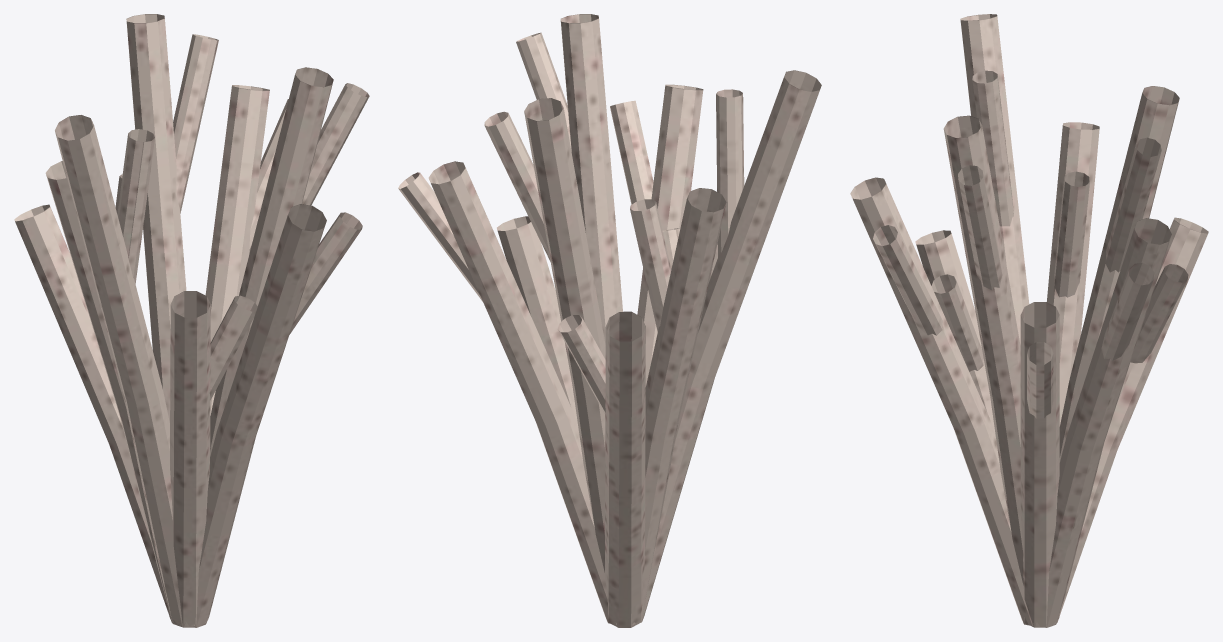
File: staghorn.glb
3 views of the same model, side by side, from view 1: azimuth 30°, elevation 25°; view 2: azimuth 150°, elevation 25°; view 3: azimuth 270°, elevation 25° (orthographic). The views are drawn at different scales.
Parts seen in each view (by area): view 1: branch5, branch7, branch2, branch6, branch3, branch8, branch1, branch4, fork2, fork5, fork8, fork7 (+2 smaller); view 2: branch5, branch1, branch2, branch4, branch3, branch8, branch7, branch0, fork5, fork2, fork4, fork7 (+3 smaller); view 3: branch7, branch1, branch8, branch0, branch2, branch4, branch3, branch5, fork5, fork2, fork4, fork8 (+6 smaller).
Part boxes in pixels (x1=…): branch5: x1=55, y1=115, x2=194, y2=627; branch7: x1=184, y1=204, x2=326, y2=627; branch2: x1=126, y1=14, x2=186, y2=422; branch6: x1=170, y1=291, x2=210, y2=627; branch3: x1=14, y1=204, x2=171, y2=622; branch8: x1=210, y1=67, x2=333, y2=456; branch1: x1=205, y1=85, x2=269, y2=415; branch4: x1=45, y1=161, x2=180, y2=624; fork2: x1=173, y1=34, x2=218, y2=213; fork5: x1=117, y1=129, x2=154, y2=283; fork8: x1=302, y1=83, x2=369, y2=205; fork7: x1=289, y1=212, x2=362, y2=334; branch5: x1=633, y1=70, x2=821, y2=624; branch1: x1=428, y1=161, x2=616, y2=624; branch2: x1=524, y1=98, x2=617, y2=624; branch4: x1=632, y1=188, x2=726, y2=625; branch3: x1=605, y1=311, x2=645, y2=627; branch8: x1=560, y1=14, x2=622, y2=344; branch7: x1=637, y1=84, x2=703, y2=386; branch0: x1=497, y1=216, x2=577, y2=424; fork5: x1=716, y1=89, x2=744, y2=256; fork2: x1=484, y1=111, x2=550, y2=261; fork4: x1=630, y1=199, x2=671, y2=331; fork7: x1=610, y1=100, x2=653, y2=204; branch7: x1=850, y1=177, x2=1032, y2=625; branch1: x1=1035, y1=218, x2=1171, y2=627; branch8: x1=943, y1=115, x2=1033, y2=625; branch0: x1=1020, y1=302, x2=1059, y2=627; branch2: x1=1057, y1=86, x2=1179, y2=620; branch4: x1=1047, y1=122, x2=1099, y2=426; branch3: x1=1057, y1=217, x2=1208, y2=622; branch5: x1=960, y1=14, x2=1029, y2=344; fork5: x1=972, y1=70, x2=1013, y2=226; fork2: x1=1105, y1=137, x2=1161, y2=272; fork4: x1=1054, y1=171, x2=1089, y2=297; fork8: x1=958, y1=165, x2=1002, y2=290.
Size of the model in its own units: 0.4834 by 0.7662 by 0.4608.
Materials: 1 (1 with a texture image).
